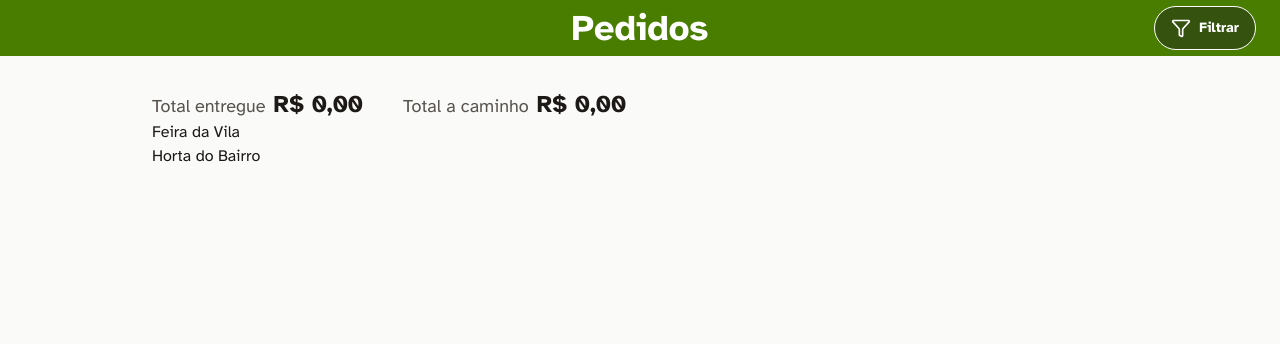
Scenario: HistoryLayout › filters by status
Click the button "Filtrar" at (1205, 28), box [1154, 6, 1256, 50]
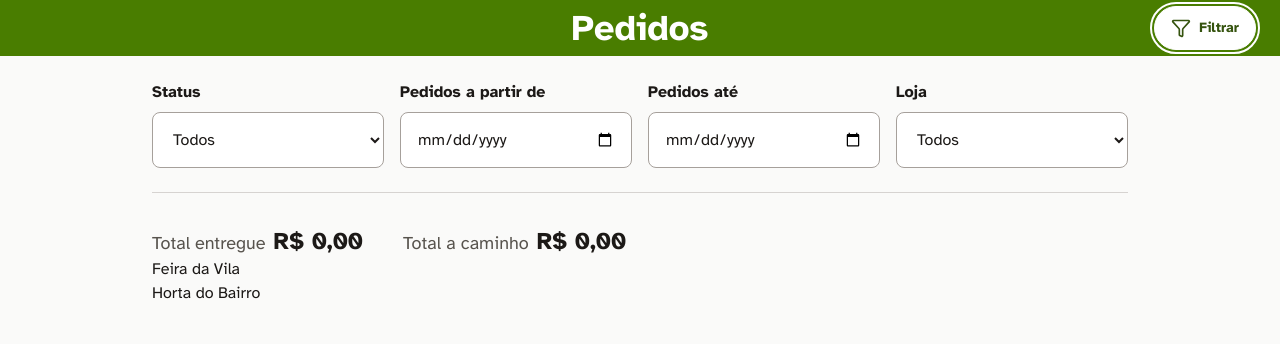
Select "Entregue" in the dropdown labelled "Status" at (268, 140), box [152, 112, 384, 168]
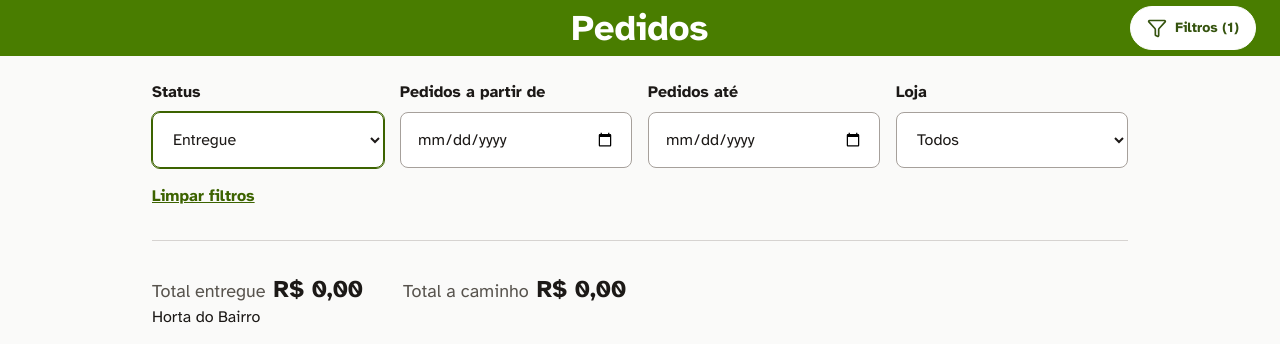
Check: the list items read "Horta do Bairro", in this order, box [152, 307, 260, 327]
